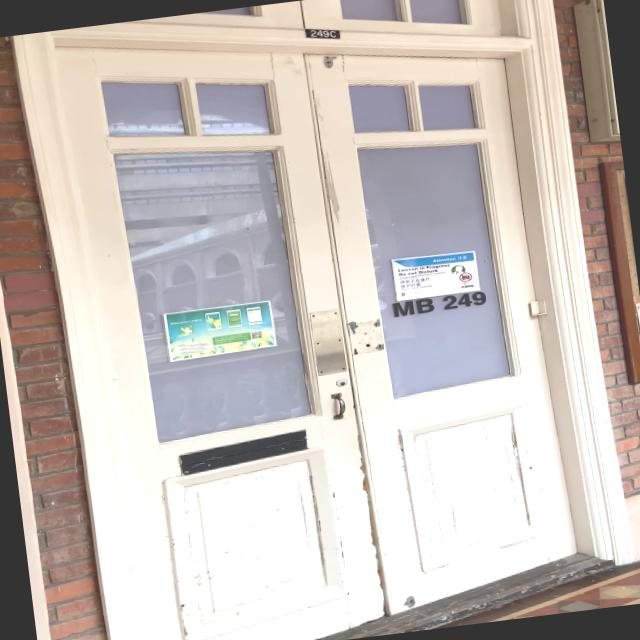room249c: (301, 21, 343, 45)
room249cWindow: (386, 286, 491, 318)
